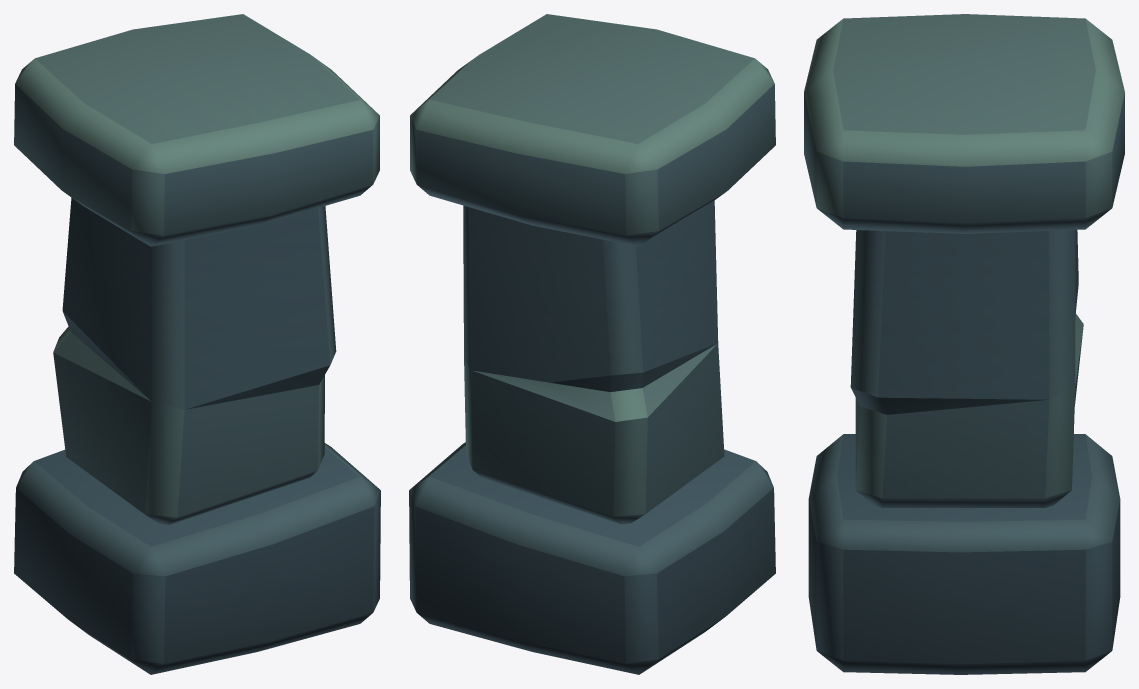
Rendered from fence_pillar_1_LOD_setup.fbx.
3 views of the same model, side by side, from view 1: azimuth 30°, elevation 25°; view 2: azimuth 150°, elevation 25°; view 3: azimuth 270°, elevation 25° (orthographic). The views are drawn at different scales.
Parts seen in each view (by area): view 1: fence_pillar_1_LOD0; view 2: fence_pillar_1_LOD0; view 3: fence_pillar_1_LOD0.
Part boxes in pixels (bbox=[...]): fence_pillar_1_LOD0: bbox=[14, 14, 380, 674]; fence_pillar_1_LOD0: bbox=[409, 14, 775, 674]; fence_pillar_1_LOD0: bbox=[804, 14, 1124, 674].
Size of what is drawn, in the model's own units: 82.49 by 155 by 82.13.
